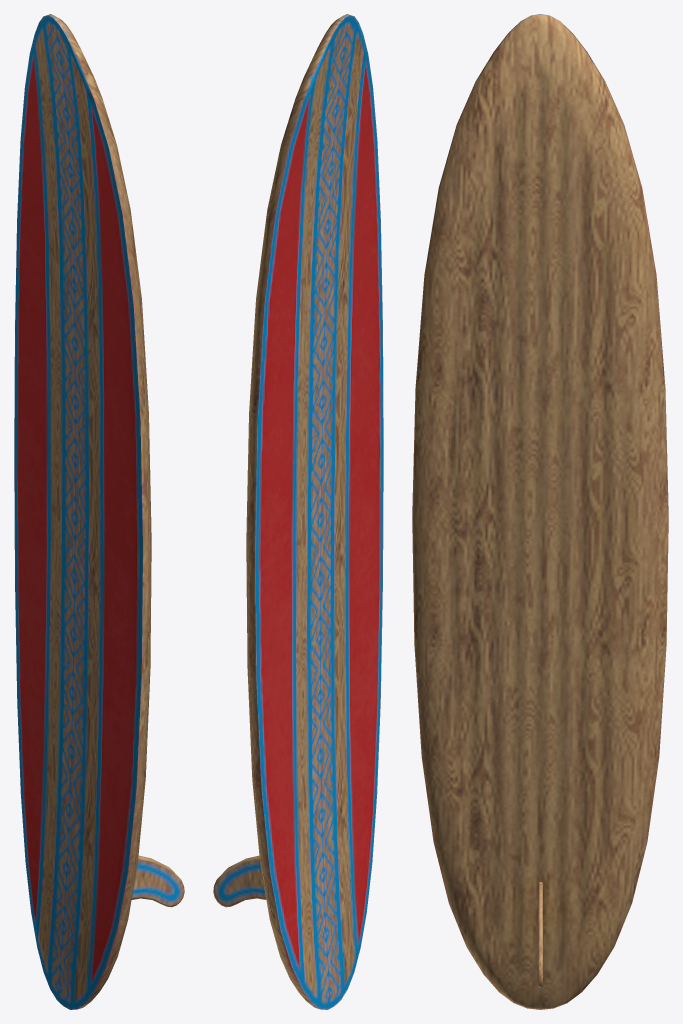
The model's file is MB_Surfboard_03.fbx.
3 renders of one model, left to right at view 1: azimuth 30°, elevation 25°; view 2: azimuth 150°, elevation 25°; view 3: azimuth 270°, elevation 25°, orthographic.
Parts seen in each view (by area): view 1: MB_Surfboard_03_LOD0; view 2: MB_Surfboard_03_LOD0; view 3: MB_Surfboard_03_LOD0.
Part boxes in pixels (left/top/right/bottom): MB_Surfboard_03_LOD0: left=14, top=14, right=184, bottom=1009; MB_Surfboard_03_LOD0: left=213, top=14, right=383, bottom=1009; MB_Surfboard_03_LOD0: left=412, top=14, right=668, bottom=1009.
Size of what is drawn, in the model's own units: 25.35 by 183 by 42.94.
